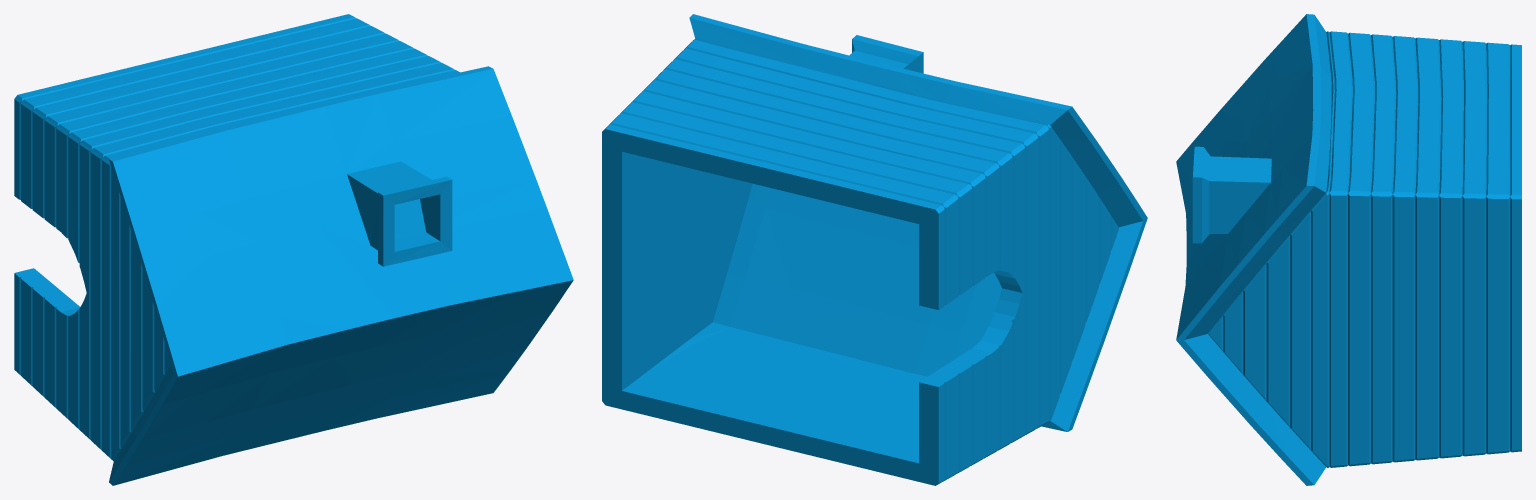
The model's file is House.obj.
3 renders of one model, left to right at view 1: azimuth 30°, elevation 25°; view 2: azimuth 150°, elevation 25°; view 3: azimuth 270°, elevation 25°, orthographic. The views are drawn at different scales.
Visible parts, largest first — view 1: Object.1; view 2: Object.1; view 3: Object.1.
Boxes of the visible parts, left/top/right/bottom form: Object.1: left=14, top=14, right=573, bottom=485; Object.1: left=602, top=14, right=1147, bottom=485; Object.1: left=1176, top=14, right=1521, bottom=485.
Size of the model in its own units: 118 by 92.39 by 96.45.
